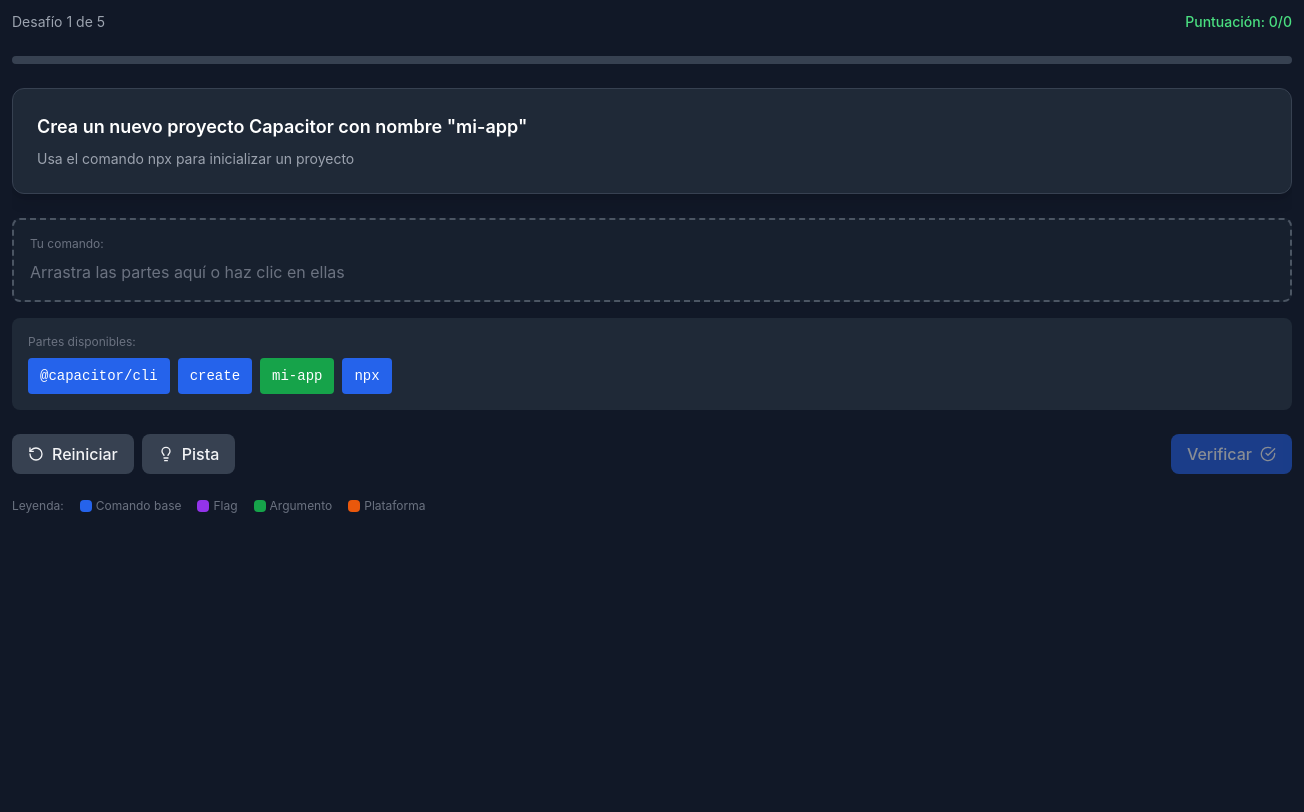
it: CommandBuilder › interaction › should show hint when hint button is clicked
Click the button "Pista". click: (189, 454)
box: [142, 434, 235, 474]
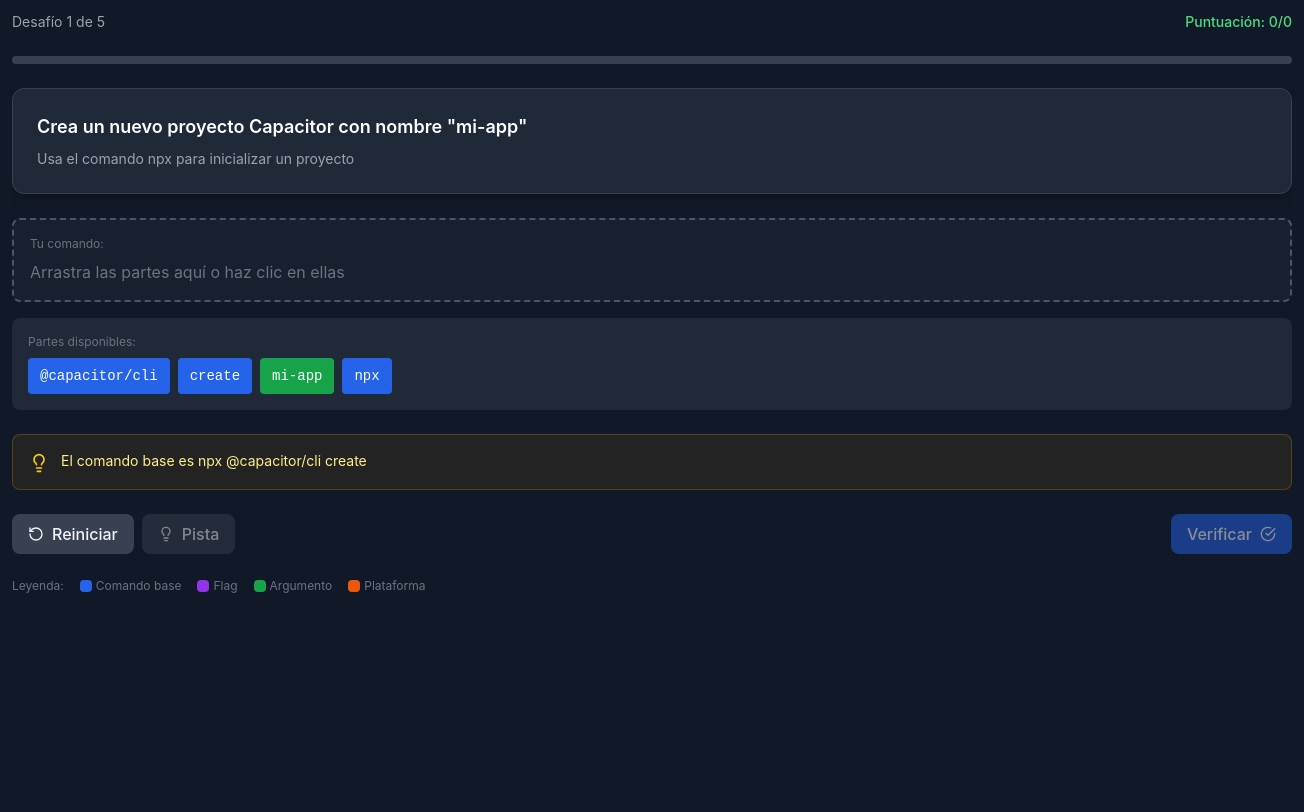
Check: the text "El comando base es npx @capacitor/cli create" is shown, box [61, 451, 367, 471]
